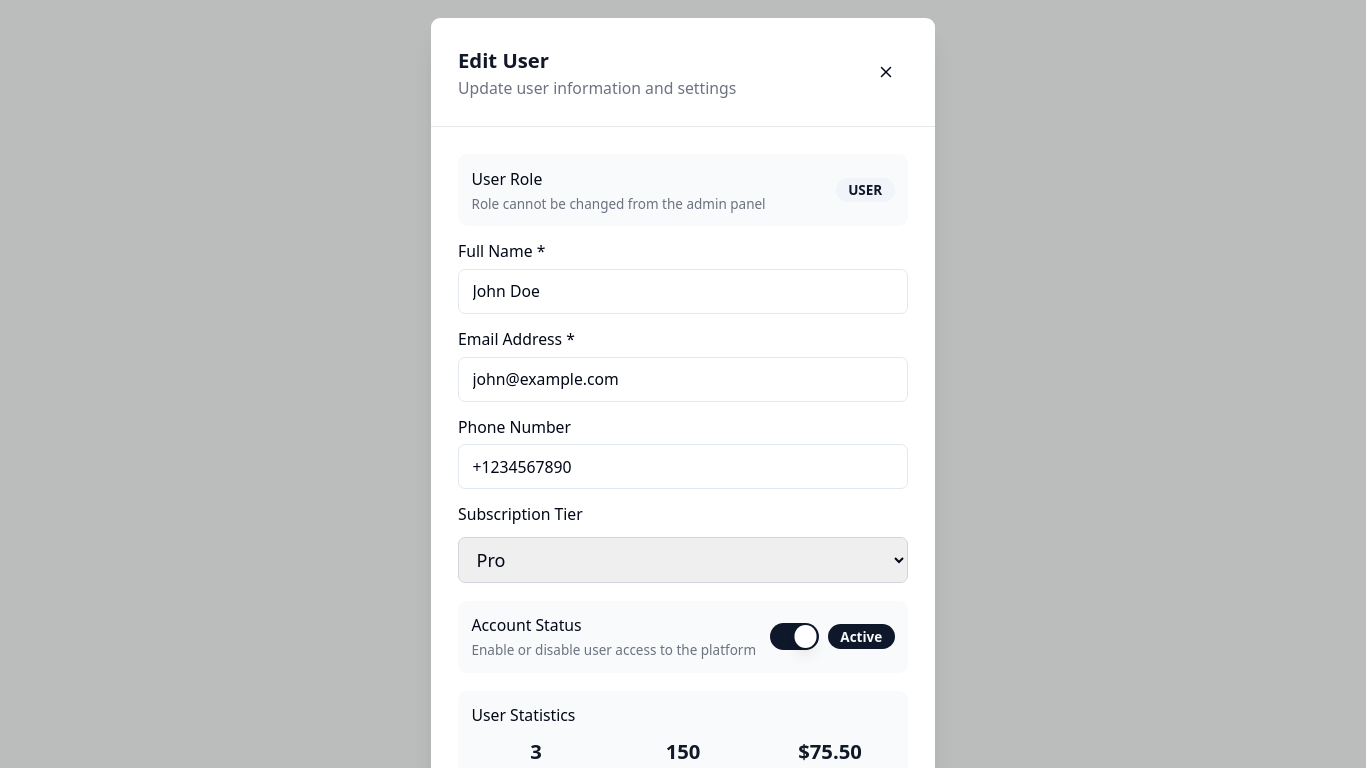
Test case: UserEditModal › clears validation errors when input changes
# Clear name to trigger validation error
Clear the field showing "John Doe" at (683, 291), box [458, 269, 908, 314]
(page scrolled)
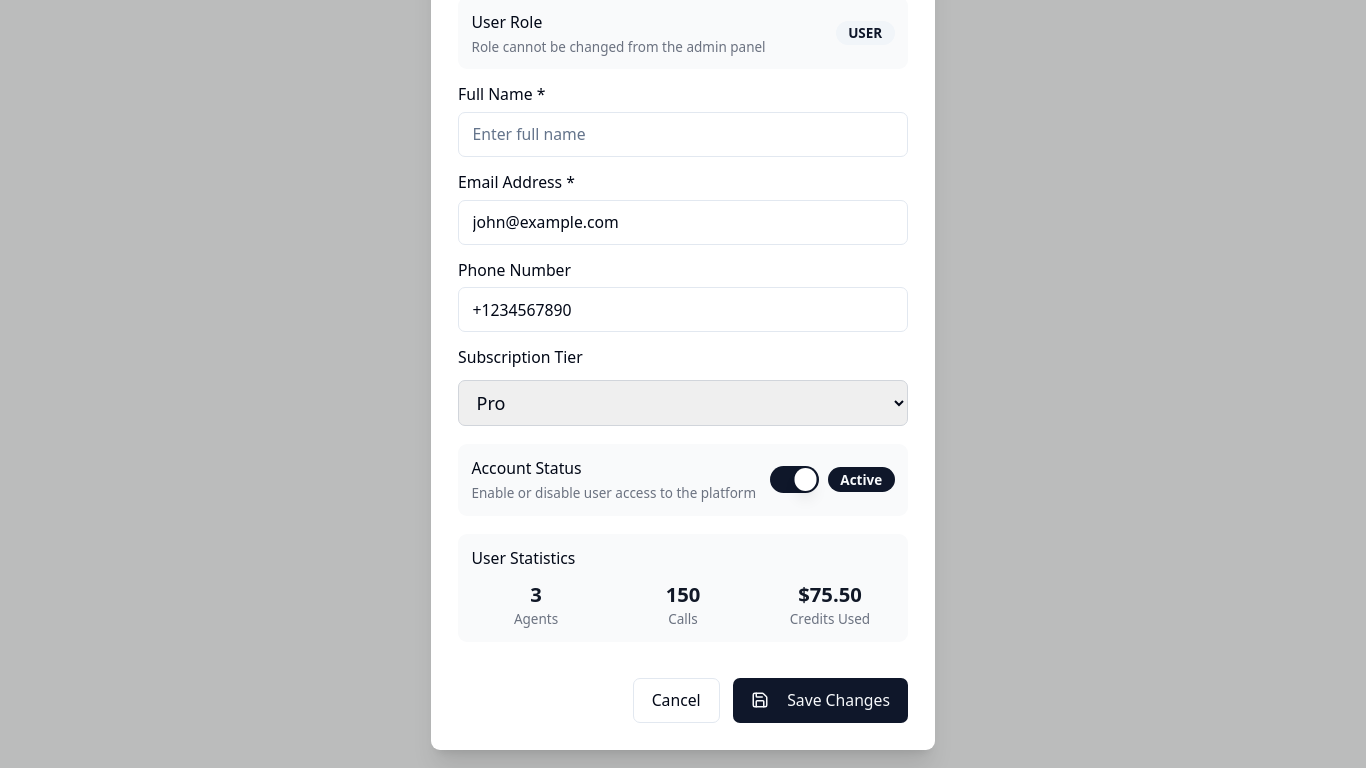
Click the button "Save Changes".
click(821, 700)  # box [733, 678, 908, 722]
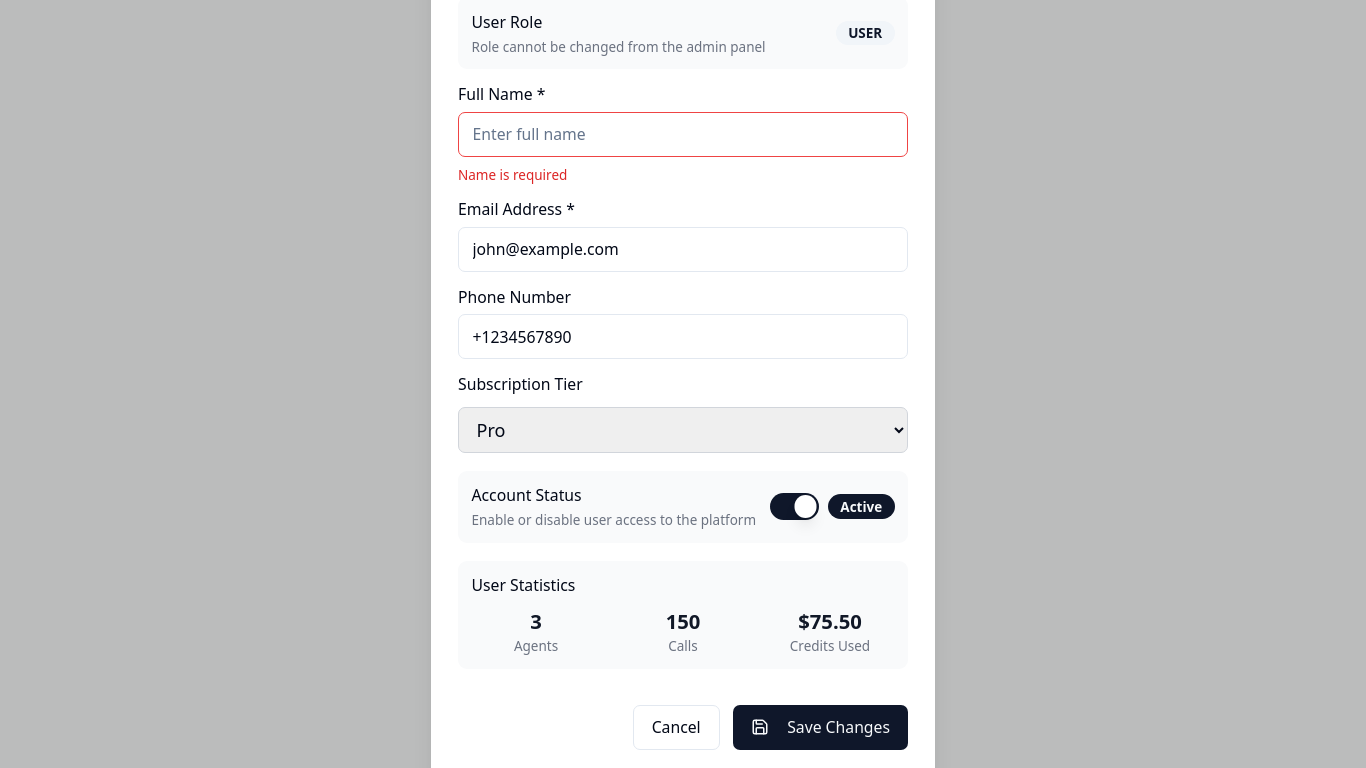
Check: the text "Name is required" is shown, box [458, 166, 567, 184]
# Fix the name
Type "Fixed Name" into the field showing "John Doe".
click(683, 134); type("Fixed Name")  # box [458, 112, 908, 157]
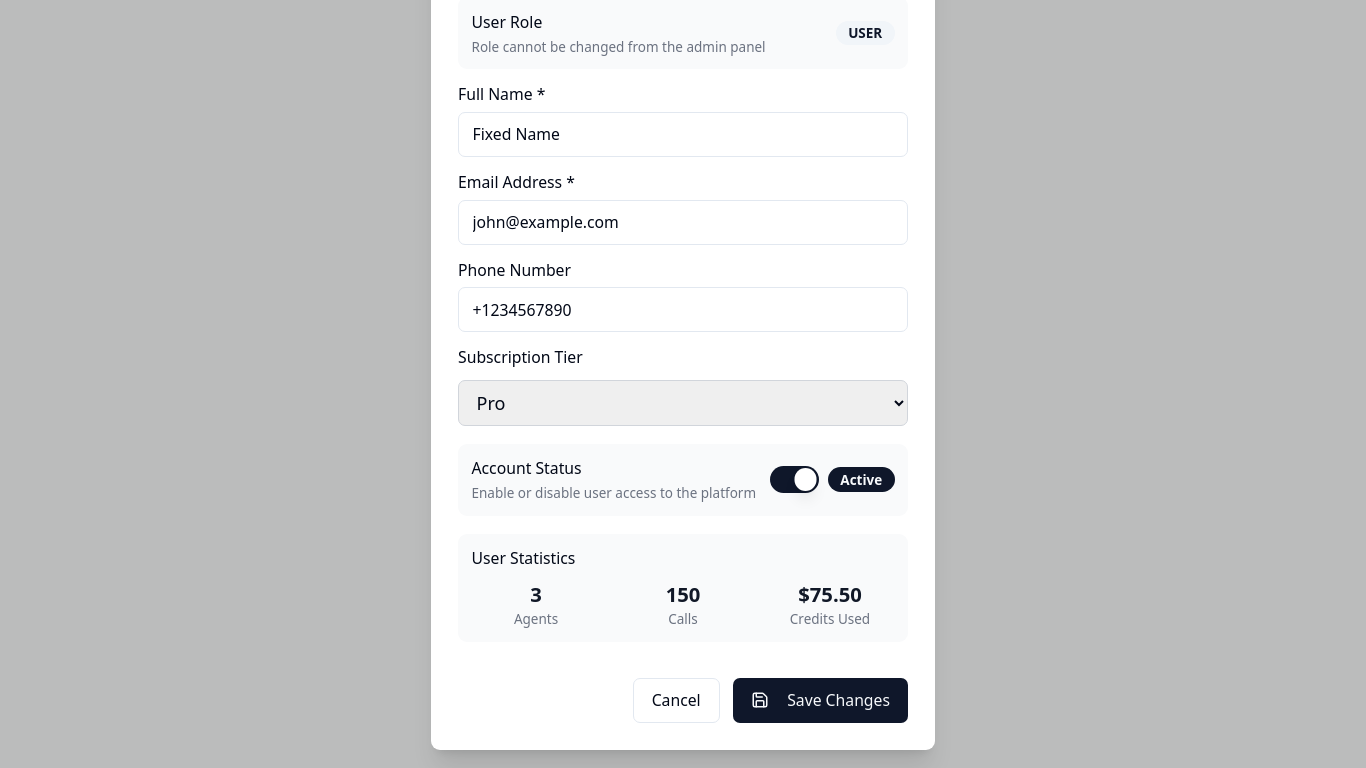
Check: the text "Name is required" is gone
